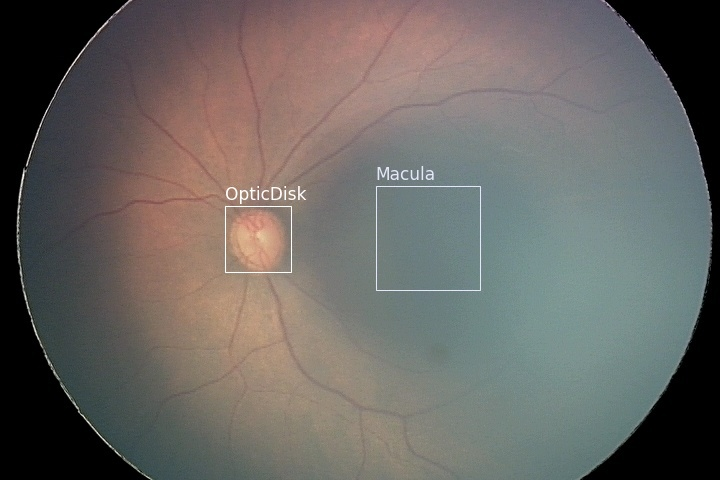Macula: (375, 185, 479, 289)
OpticDisk: (224, 205, 290, 271)
